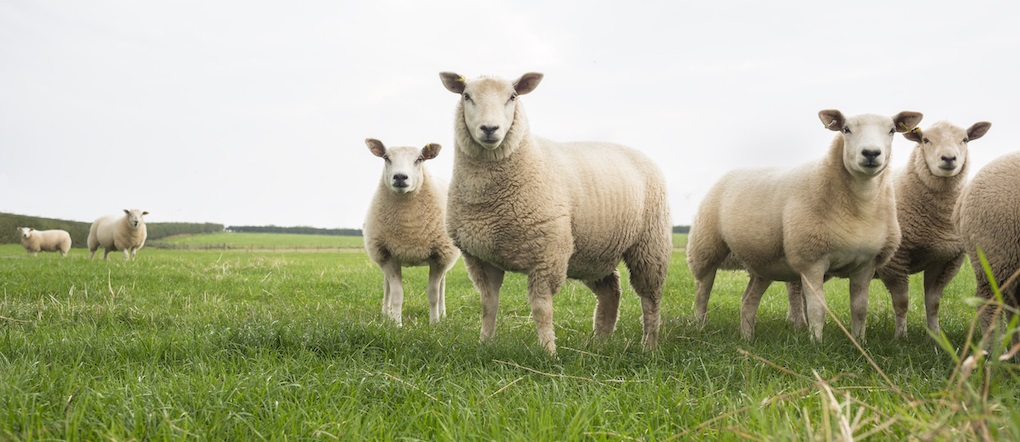sheep: (442, 67, 679, 358), (701, 96, 885, 354), (878, 101, 975, 337), (366, 131, 452, 343), (82, 203, 169, 273), (12, 217, 81, 268)
